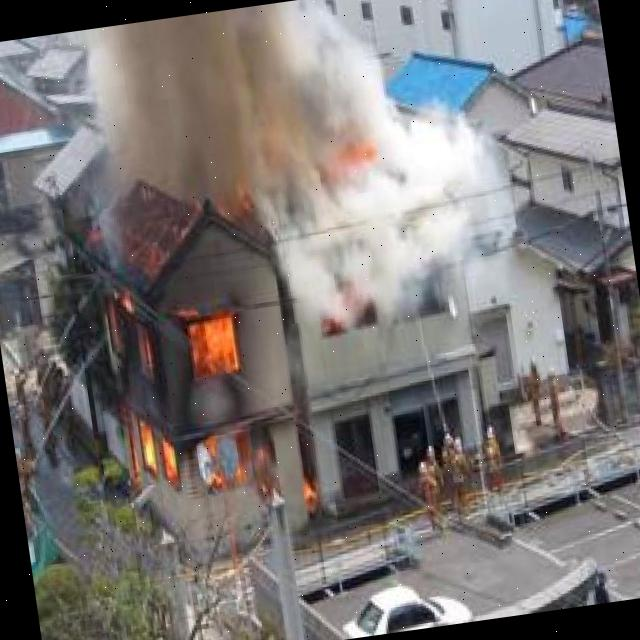fire: (84, 248, 344, 542)
